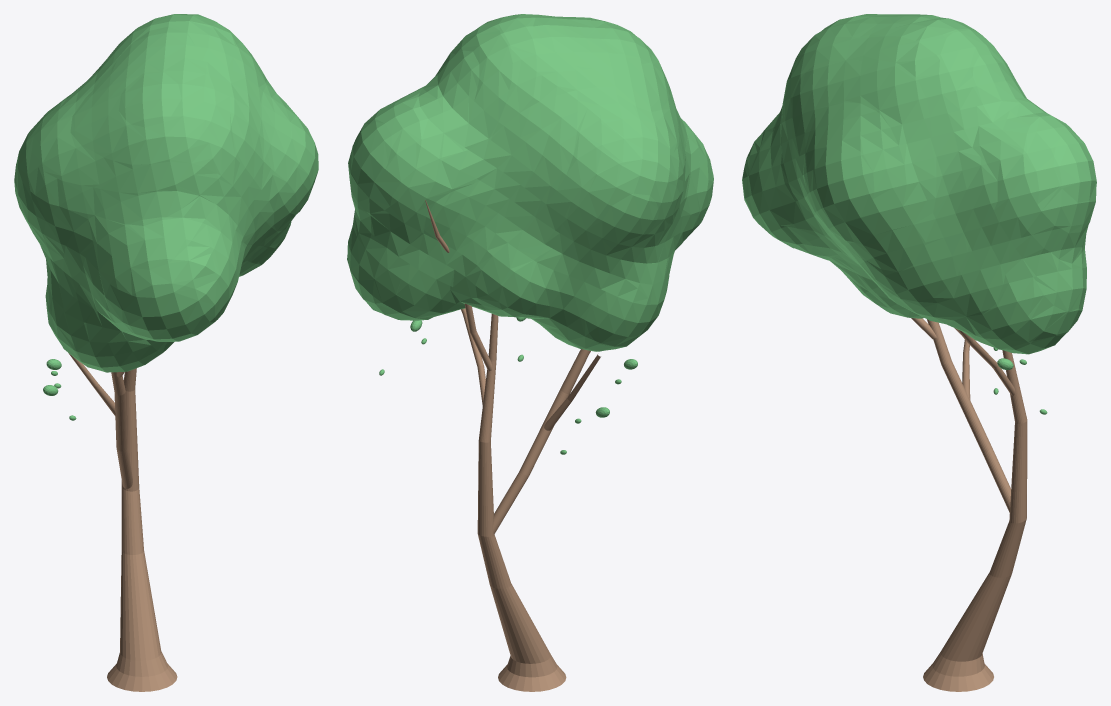
The model's file is Cartoon_Trees_Pack_Tree_11.glb.
3 views of the same model, side by side, from view 1: azimuth 30°, elevation 25°; view 2: azimuth 150°, elevation 25°; view 3: azimuth 270°, elevation 25° (orthographic). The views are drawn at different scales.
Visible parts, largest first — view 1: Canopy, Trunk; view 2: Canopy, Trunk; view 3: Canopy, Trunk.
Part boxes in pixels (x1,y1,x2,y2): Canopy: (14,14,318,420); Trunk: (68,353,177,691); Canopy: (347,14,713,454); Trunk: (425,200,600,691); Canopy: (742,14,1096,414); Trunk: (911,318,1027,691).
Bounding box in the file's own units: 380 × 853 × 412.
